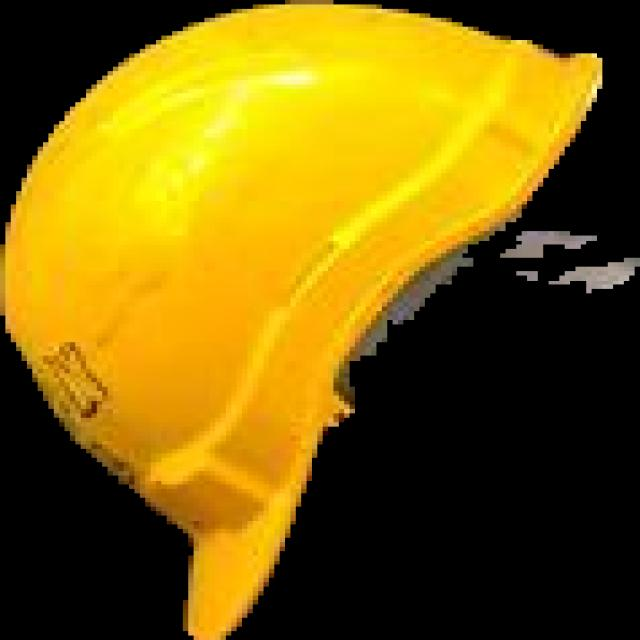Capacete: (0, 0, 602, 639)
